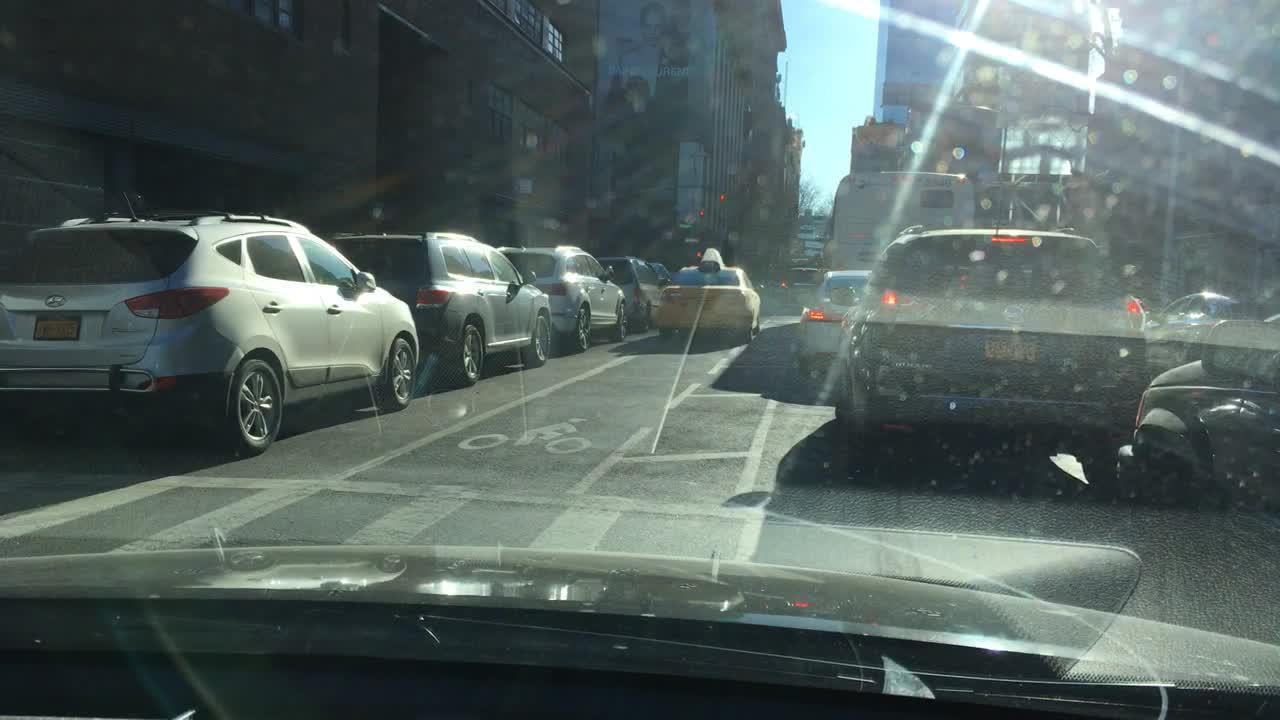Hyundai: (37, 287, 80, 315)
Nissan: (995, 299, 1039, 332)
